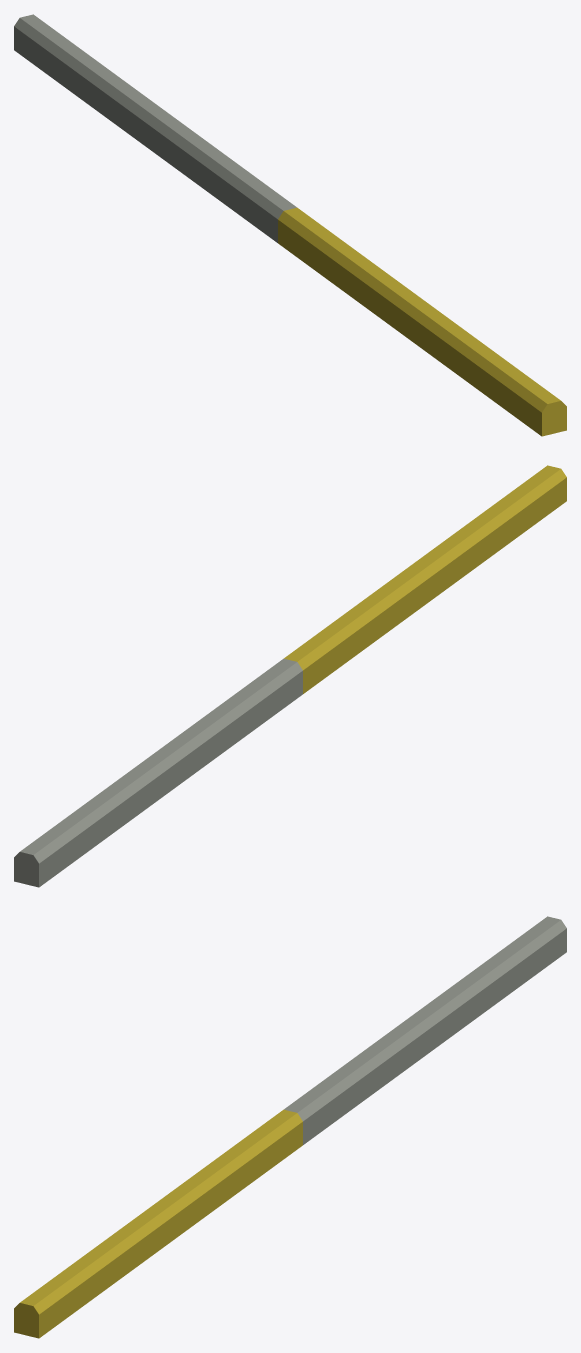
File: ct_trk_curb.glb
3 views of the same model, one above another, from view 1: azimuth 30°, elevation 25°; view 2: azimuth 150°, elevation 25°; view 3: azimuth 330°, elevation 25° (orthographic).
Visible parts, largest first — view 1: ct_trk_curb; view 2: ct_trk_curb; view 3: ct_trk_curb.
Part boxes in pixels (bbox=[...]): ct_trk_curb: bbox=[14, 14, 566, 436]; ct_trk_curb: bbox=[14, 465, 566, 887]; ct_trk_curb: bbox=[14, 916, 566, 1338].
Size of the model in its own units: 0.2197 by 0.2598 by 8.
